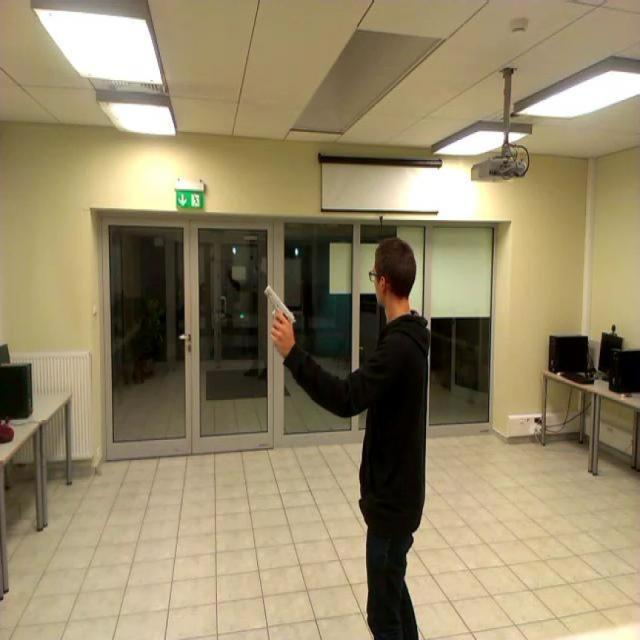pistol: (265, 284, 297, 335)
